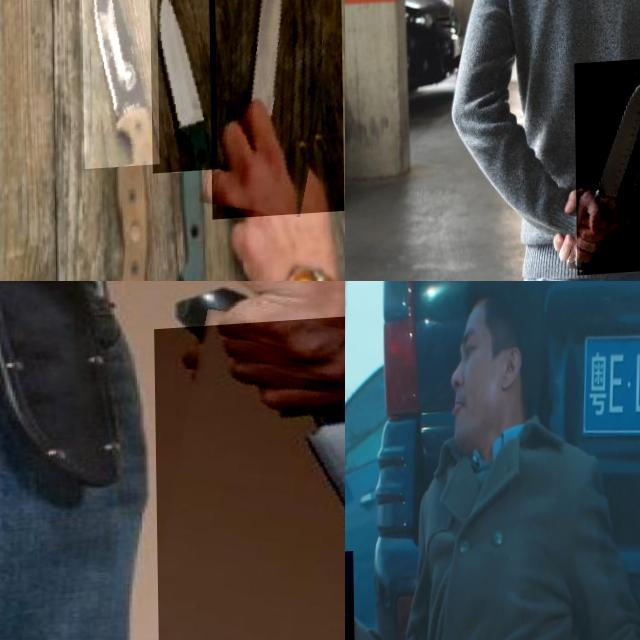-: (153, 311, 345, 640), (207, 0, 342, 225), (573, 63, 640, 279), (80, 0, 158, 173), (149, 0, 216, 178)
gun-knife-thesis - v11 Yolov5 augmented: (345, 552, 383, 640)
